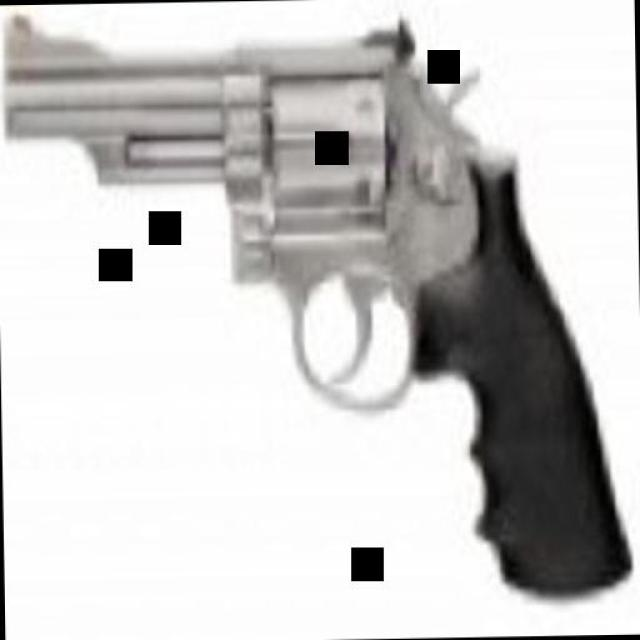gun: (0, 4, 618, 600)
